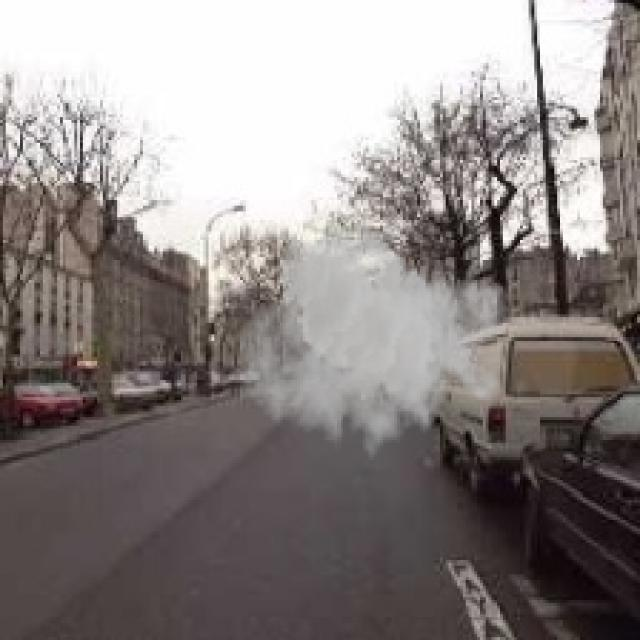Smoke: (237, 217, 514, 472)
